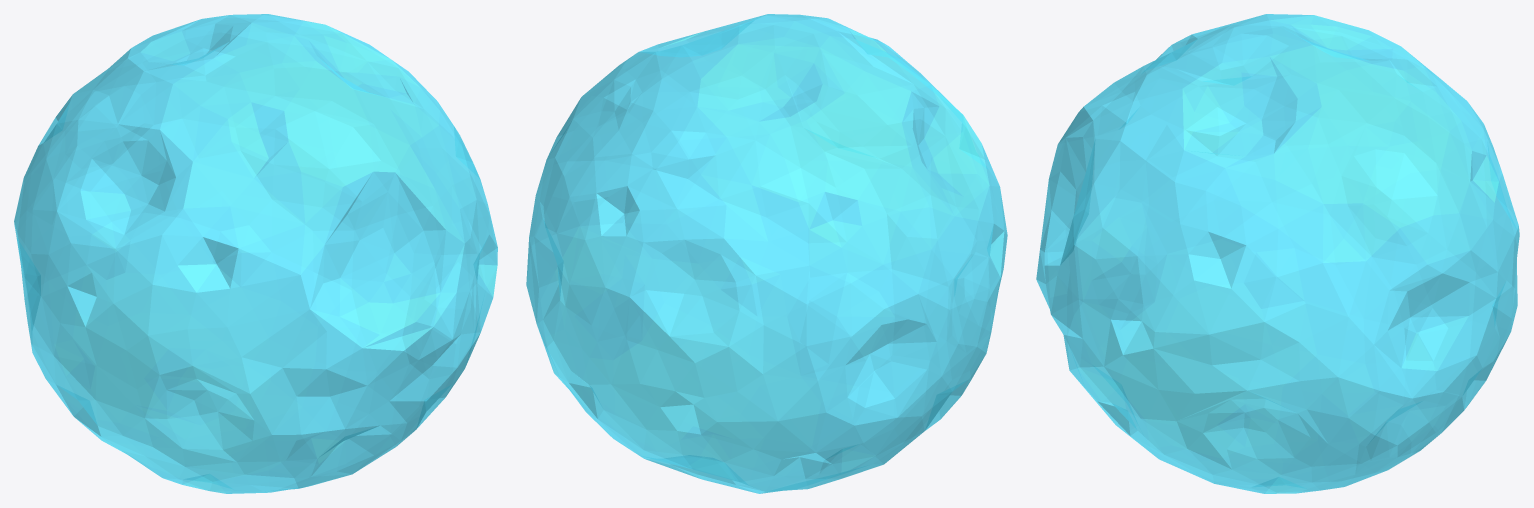
Rendered from moon.glb.
3 renders of one model, left to right at view 1: azimuth 30°, elevation 25°; view 2: azimuth 150°, elevation 25°; view 3: azimuth 270°, elevation 25°, orthographic.
Parts seen in each view (by area): view 1: Moon; view 2: Moon; view 3: Moon.
Part boxes in pixels (<box>): Moon: <box>14,14,497,493</box>; Moon: <box>526,14,1007,493</box>; Moon: <box>1036,14,1519,493</box>.
Bounding box in the file's own units: 33.32 × 33.16 × 33.47.
